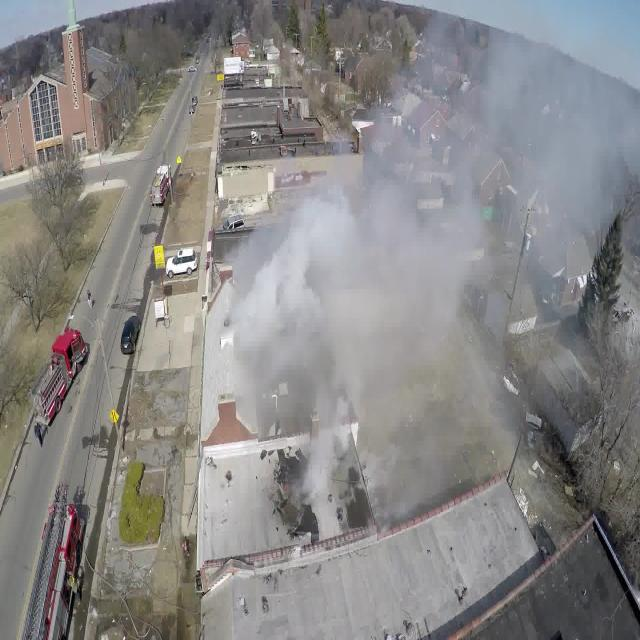Smoke: (211, 3, 640, 517)
